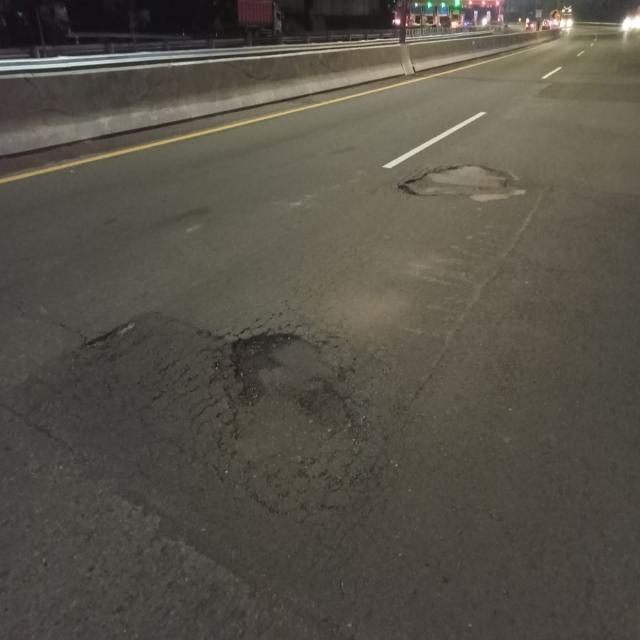Buraco: (223, 330, 305, 410), (395, 162, 531, 206), (73, 316, 143, 353)
